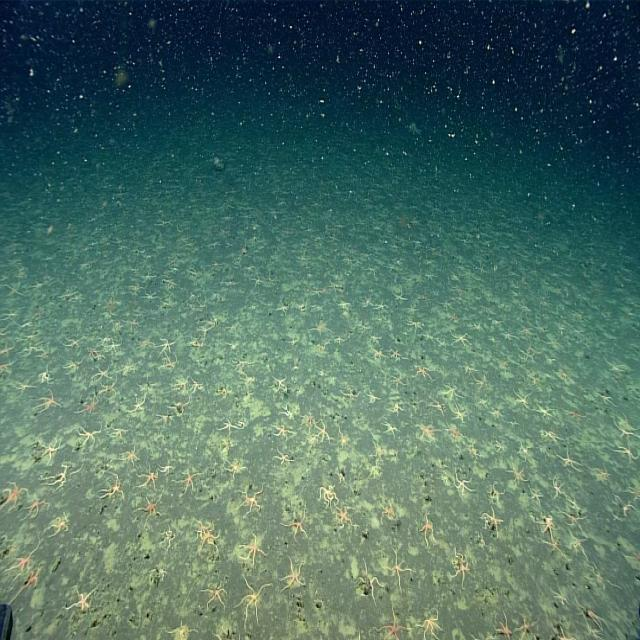brittle-stars: (239, 578, 268, 622), (577, 604, 613, 637), (377, 605, 410, 640), (198, 515, 222, 563), (279, 560, 312, 594), (362, 560, 383, 608), (47, 463, 78, 495), (286, 512, 311, 550), (419, 602, 443, 640), (1, 478, 27, 512), (611, 416, 640, 446), (422, 506, 440, 554), (239, 534, 263, 569), (384, 487, 404, 528), (49, 508, 73, 542), (139, 462, 164, 494), (389, 548, 409, 588), (320, 473, 339, 514), (70, 585, 93, 618), (516, 604, 537, 640), (36, 436, 62, 465), (34, 387, 60, 416), (101, 475, 125, 506), (612, 489, 638, 517), (79, 426, 101, 458), (17, 572, 45, 597), (452, 550, 472, 584), (599, 383, 618, 418), (416, 418, 435, 452), (204, 574, 224, 606), (244, 483, 262, 518), (25, 496, 45, 527), (542, 513, 560, 547), (124, 441, 143, 473), (314, 413, 330, 451), (137, 495, 160, 521), (333, 501, 352, 532), (272, 370, 292, 399), (619, 442, 640, 468), (230, 455, 246, 489), (520, 340, 538, 370), (11, 554, 35, 576), (455, 474, 473, 503), (132, 395, 152, 421), (556, 444, 576, 470), (181, 465, 197, 497), (4, 280, 26, 303), (551, 477, 569, 505), (23, 336, 42, 362), (496, 329, 515, 355), (488, 503, 502, 538), (451, 400, 469, 427), (409, 362, 431, 384), (446, 425, 466, 449), (495, 610, 511, 640), (299, 428, 317, 454), (441, 373, 459, 399), (514, 432, 530, 461), (110, 419, 130, 442), (513, 392, 533, 415), (220, 421, 244, 440), (433, 400, 447, 432), (510, 458, 526, 486), (408, 309, 425, 335), (15, 373, 34, 396), (274, 415, 289, 444), (162, 523, 176, 553), (104, 335, 124, 356), (67, 338, 88, 358), (165, 265, 177, 300), (157, 456, 175, 479), (277, 452, 292, 479), (221, 436, 236, 462), (194, 320, 214, 339), (231, 355, 254, 371), (384, 415, 396, 445), (159, 336, 177, 356), (188, 337, 206, 357), (312, 313, 330, 333), (528, 476, 540, 506), (160, 407, 176, 429), (103, 380, 117, 405), (82, 396, 100, 415), (66, 357, 84, 376), (367, 382, 378, 413), (375, 296, 389, 320), (337, 429, 350, 454), (557, 583, 569, 610), (392, 283, 406, 306), (175, 377, 189, 399), (216, 384, 233, 402), (570, 534, 585, 554), (137, 272, 160, 285), (468, 441, 481, 464), (37, 367, 53, 385), (295, 300, 311, 318), (333, 335, 349, 353), (92, 347, 106, 367), (426, 274, 440, 294), (302, 408, 313, 433), (274, 299, 290, 316), (160, 356, 178, 371), (209, 257, 227, 272), (129, 317, 144, 334), (394, 394, 405, 417), (391, 347, 402, 370), (563, 518, 586, 529), (364, 293, 376, 314), (594, 468, 612, 482), (375, 344, 386, 366), (344, 388, 358, 405), (192, 380, 204, 399), (157, 217, 174, 230), (494, 440, 507, 457), (453, 333, 471, 345), (461, 364, 473, 382), (477, 374, 490, 390), (539, 428, 555, 441), (251, 275, 264, 290), (555, 630, 574, 640), (96, 371, 110, 383), (146, 293, 158, 307), (289, 333, 301, 347), (494, 406, 502, 422), (394, 370, 399, 386)
